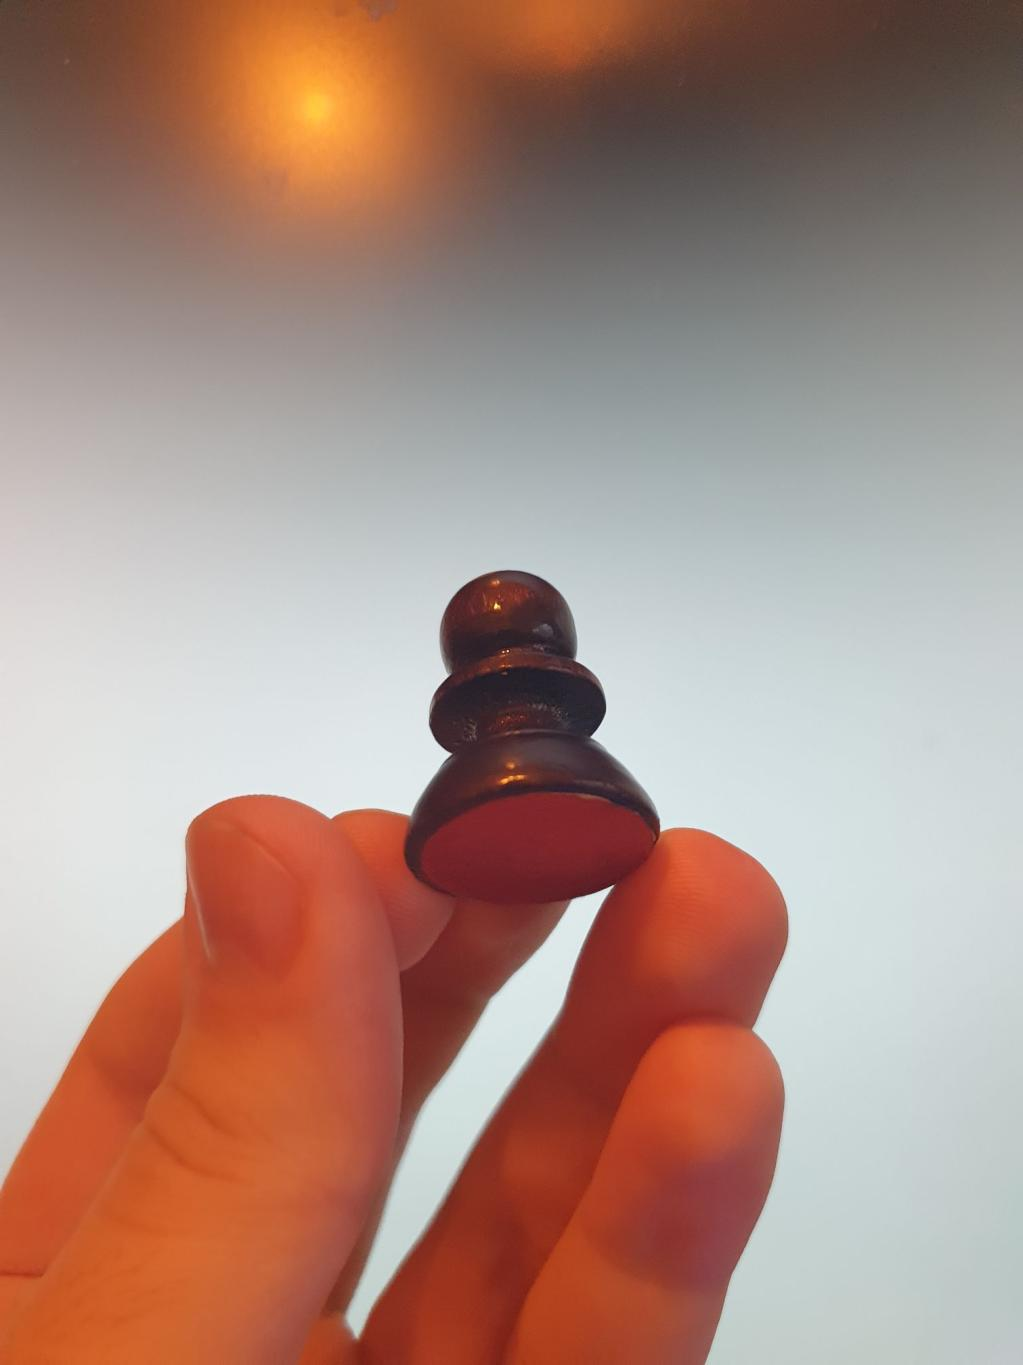bpawn: (404, 570, 664, 902)
